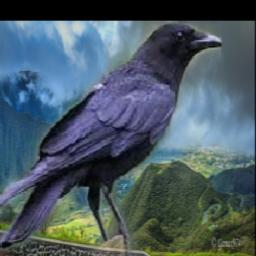Crow: (0, 21, 222, 256)
